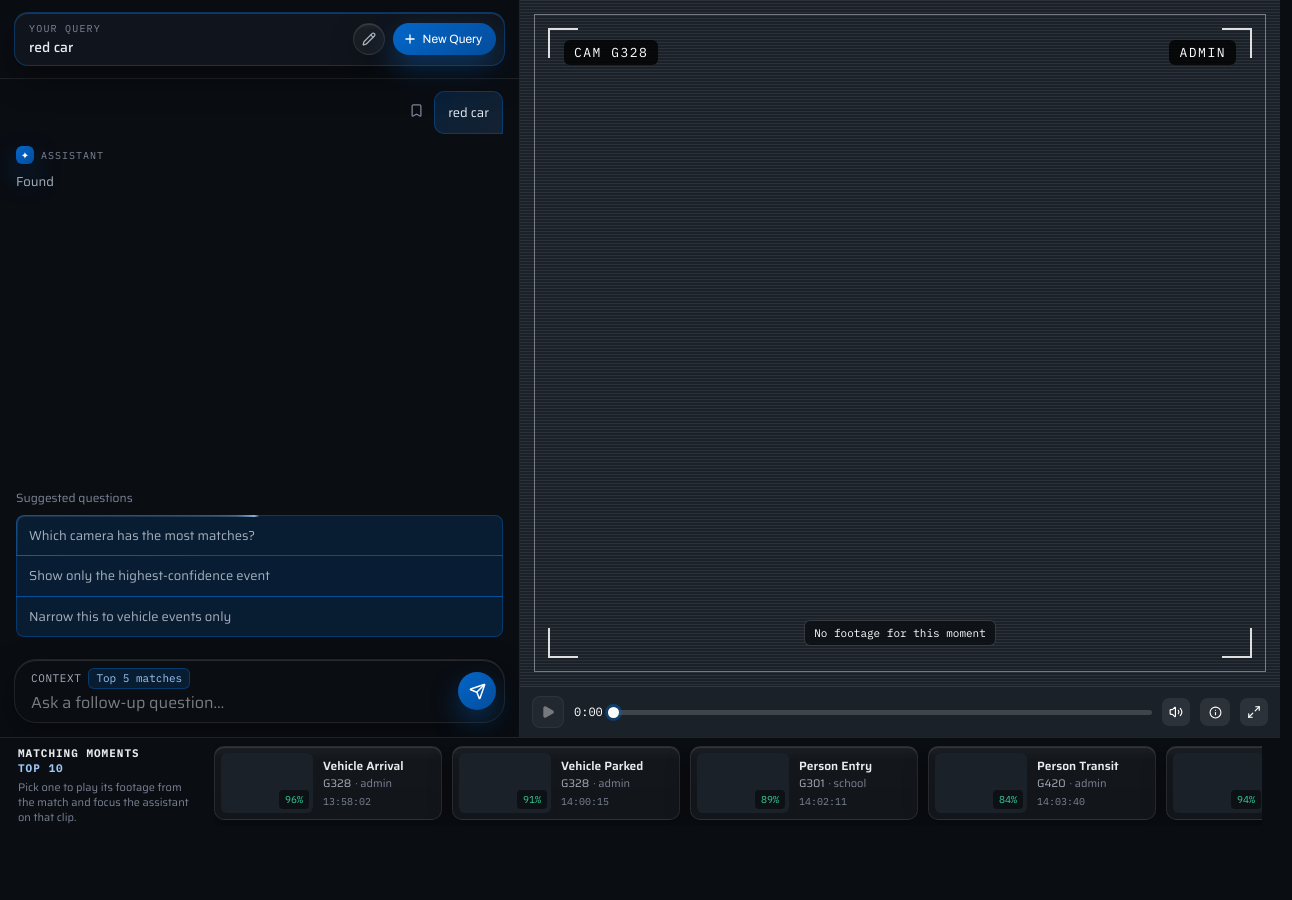
Test case: Results › clears a selection from inside the selected moment
Expected: the button "Deselect" is not shown
Click the button "96% Vehicle Arrival G328· admin 13:58:02" at (328, 783), box 214,746 -> 442,820
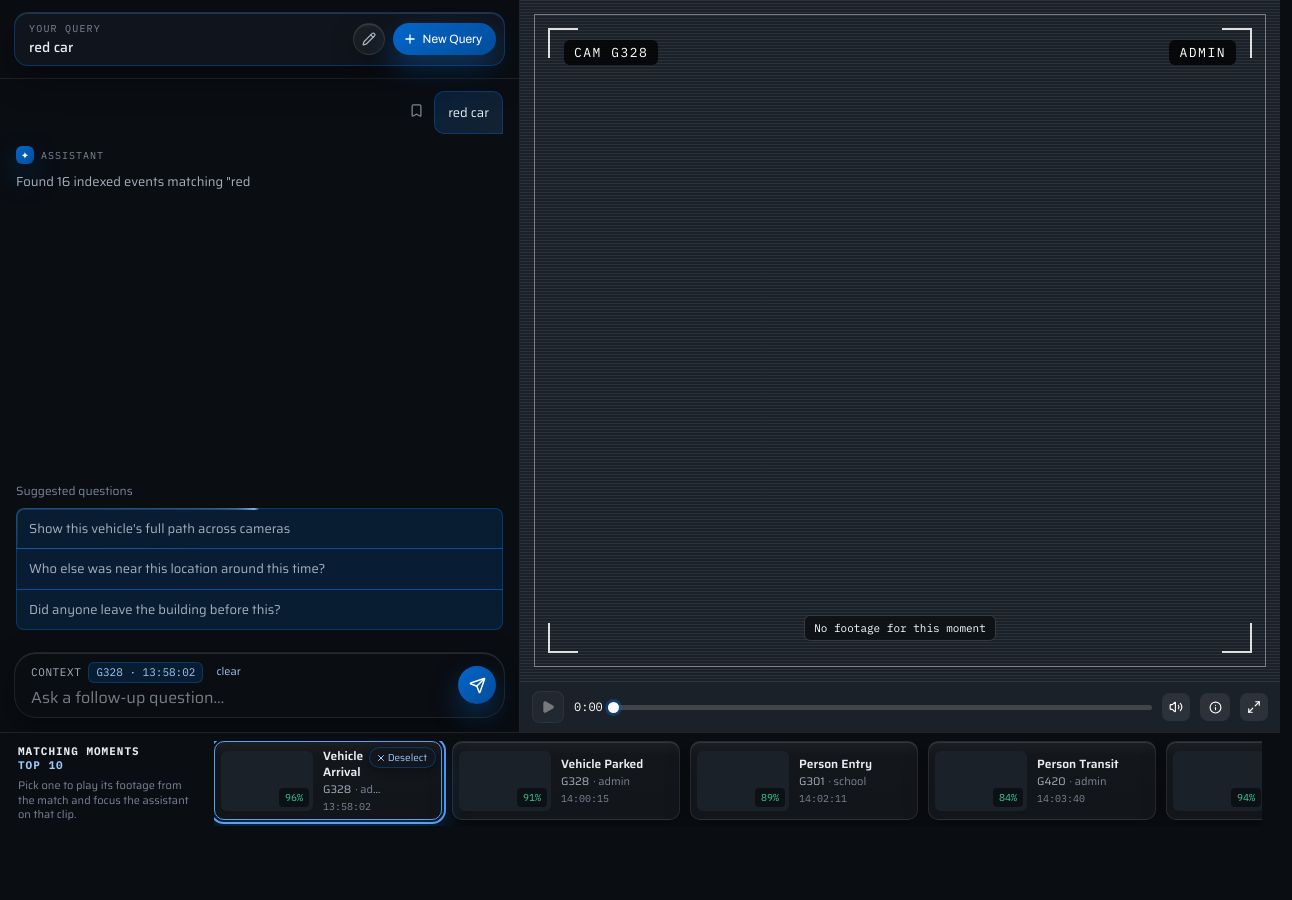
Expected: the number of buttons "Deselect" is 1
Click the button "Deselect" at (402, 758), box 369,747 -> 436,768
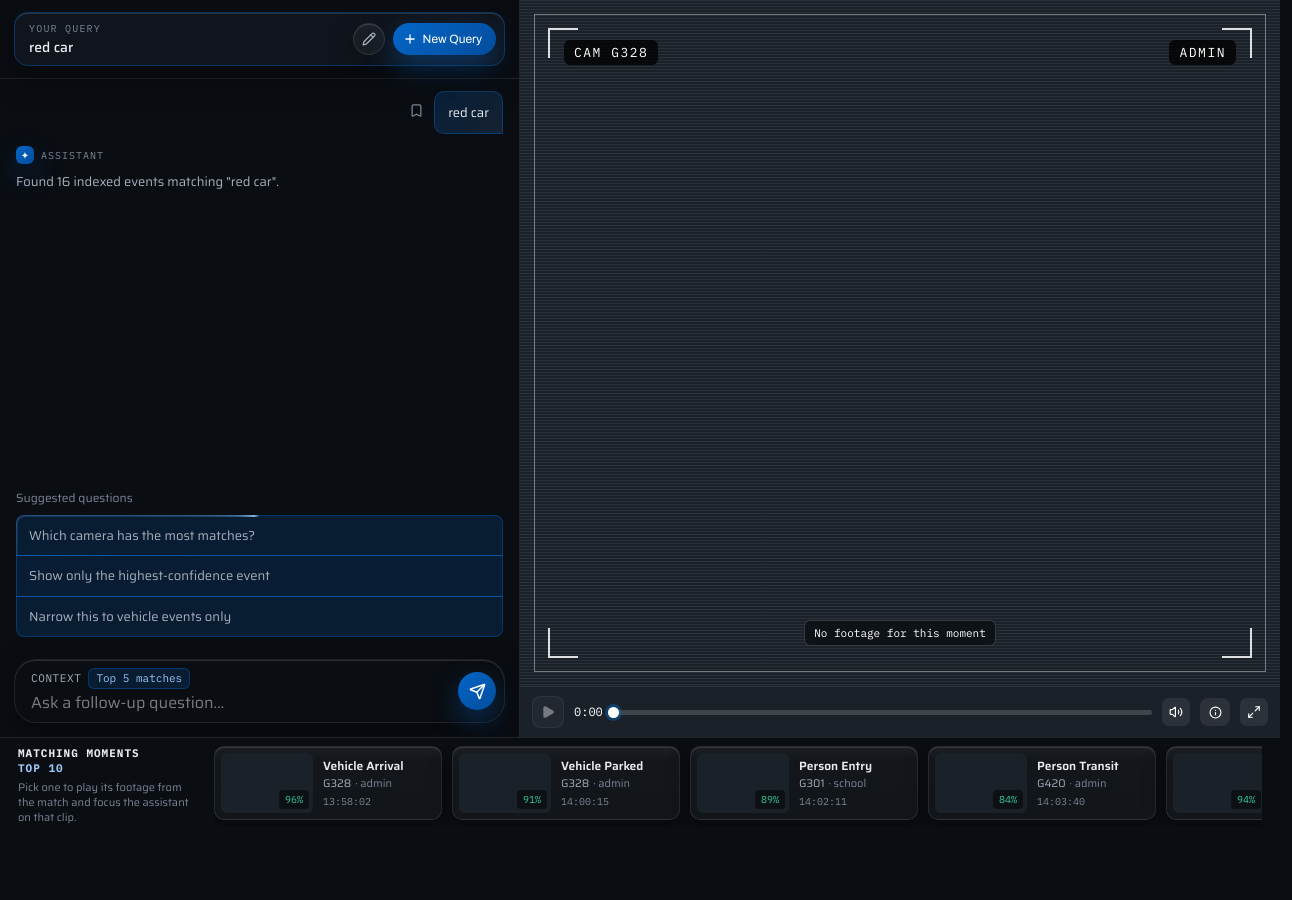
Expected: the text "Top 5 matches" is shown, 88,668 -> 190,689
Expected: the button "Deselect" is gone
